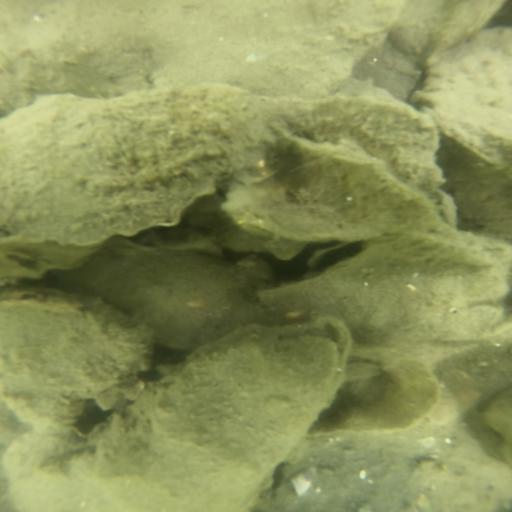Oyster-Closed: (1, 89, 282, 252), (1, 292, 149, 436), (279, 429, 507, 510), (75, 248, 251, 350), (266, 86, 438, 187), (409, 28, 512, 138), (373, 226, 492, 279)
Oyster-Open: (56, 318, 355, 510)
